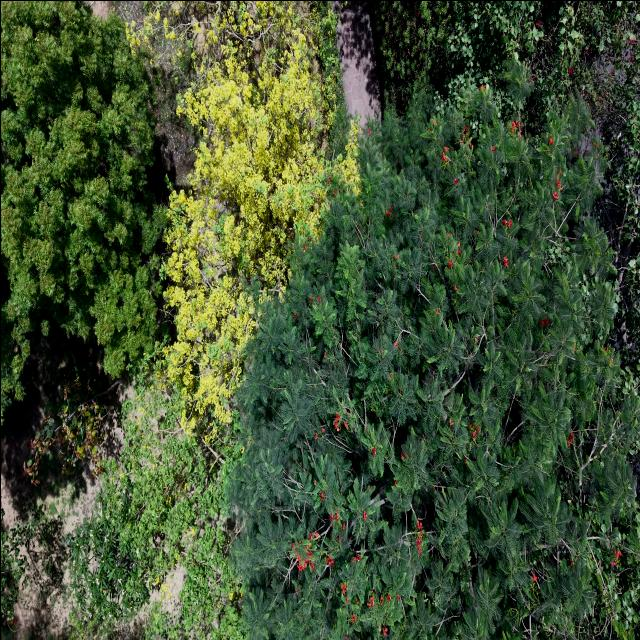DRY_AREA: (1, 324, 110, 639), (1, 323, 105, 639), (1, 337, 101, 639), (9, 471, 100, 639), (153, 32, 197, 186), (86, 1, 113, 18)
PATHWAYS: (333, 1, 382, 128)
VEGETATION_TREE: (1, 1, 639, 639), (231, 86, 638, 638), (72, 3, 358, 637), (375, 2, 639, 394), (373, 1, 639, 380), (130, 1, 358, 429), (1, 1, 166, 408), (1, 1, 165, 403), (69, 366, 244, 639), (70, 369, 211, 634), (373, 1, 639, 132), (1, 325, 97, 637), (1, 324, 125, 521), (147, 491, 247, 639), (24, 377, 118, 483), (372, 1, 453, 115), (1, 502, 66, 636), (1, 314, 29, 412), (1, 528, 25, 624)
